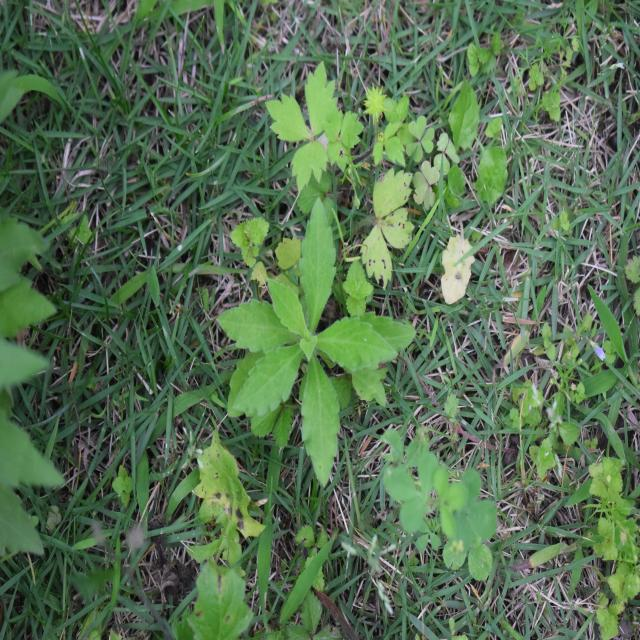horseweed: (228, 236, 394, 468)
